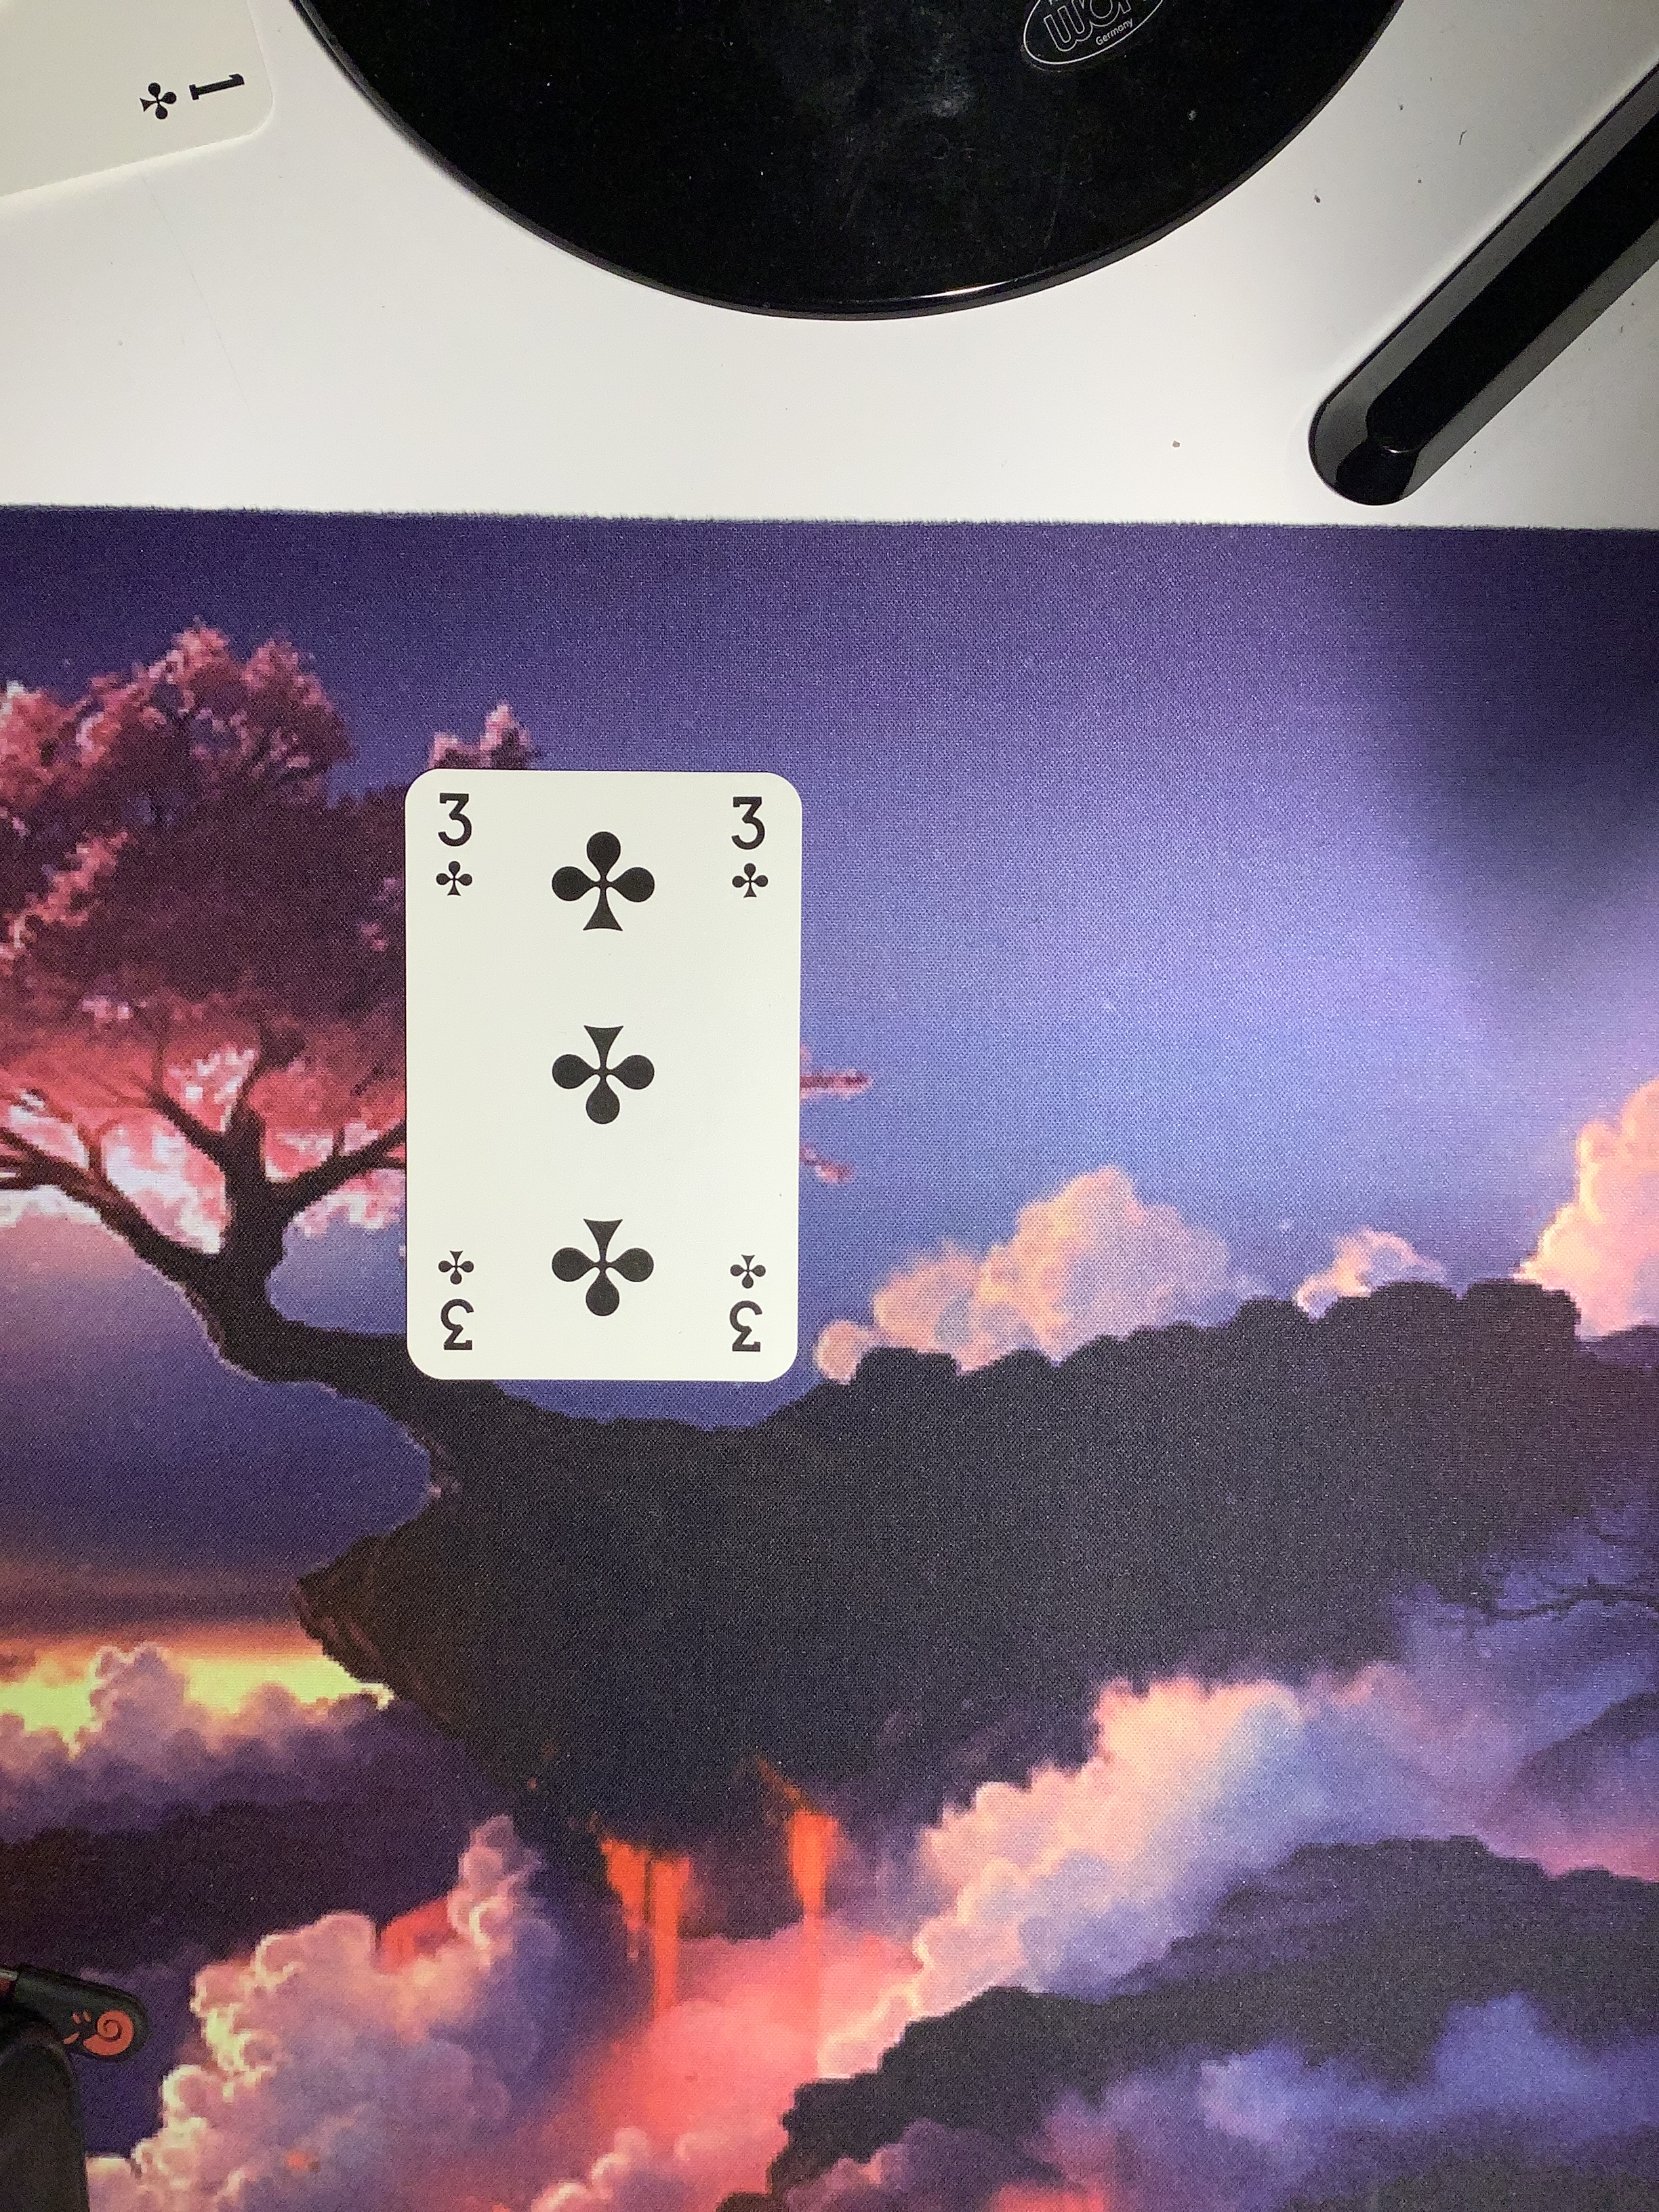♣ 3: (382, 754, 824, 1407)
